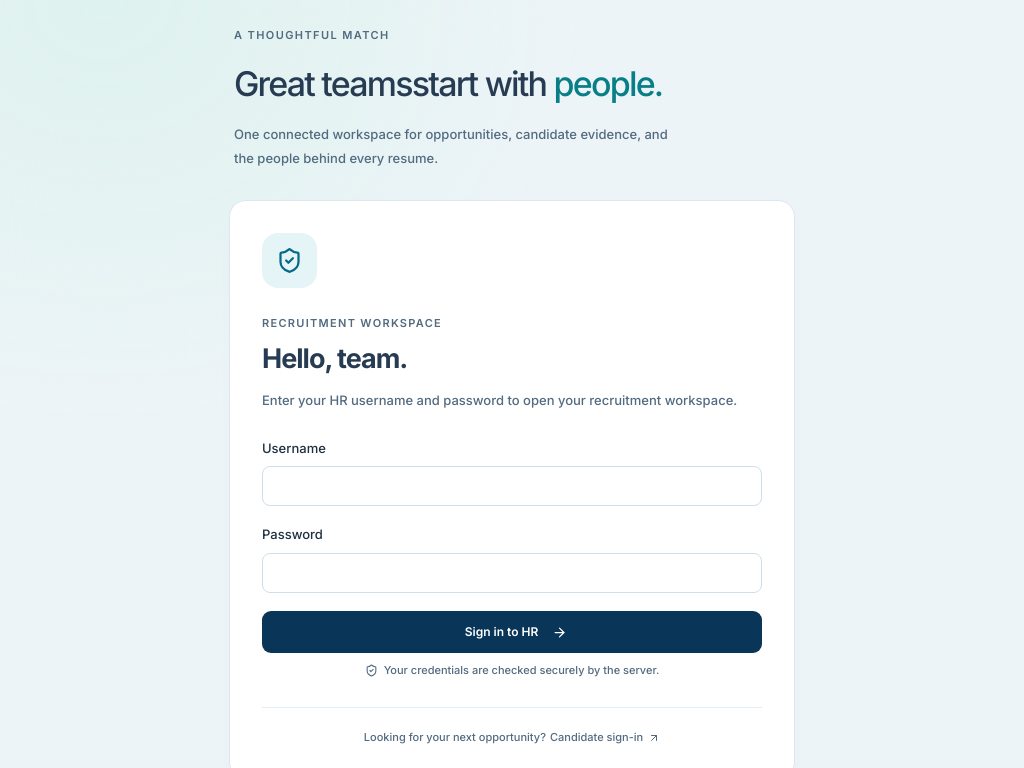
authentication and role boundaries › shows rejected HR credentials without rendering protected data
The image size is (1024, 768).
Type "wrong@staff" into the field labelled "Username". click: (512, 486)
box: [262,466,762,506]
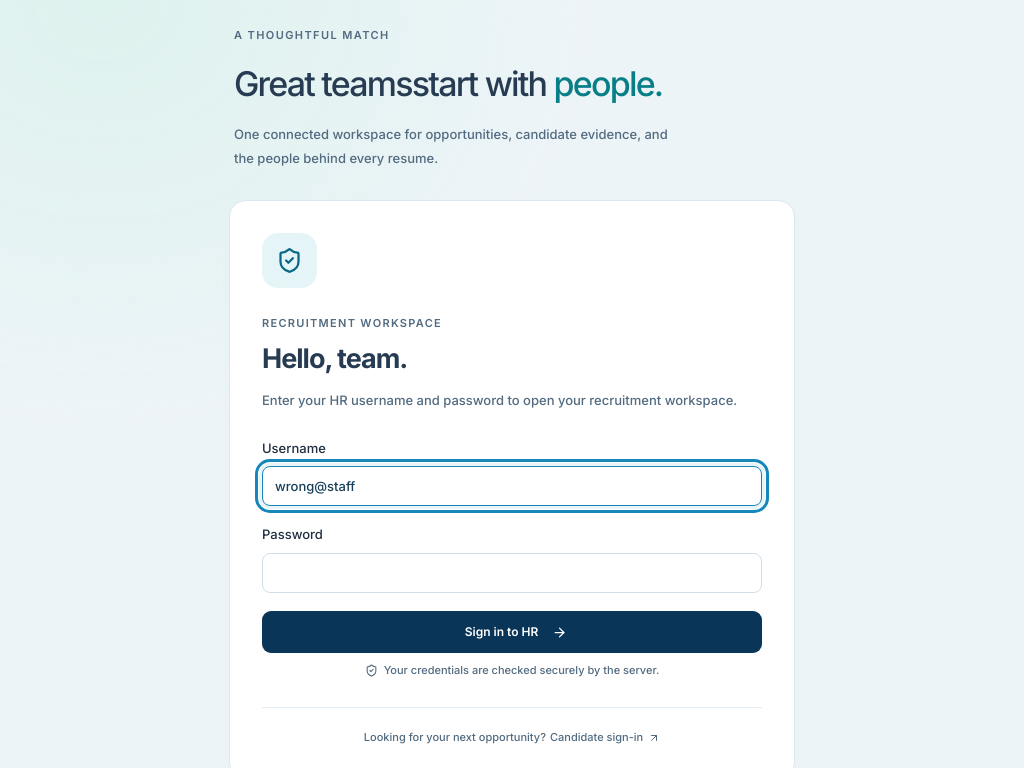
Type "wrong-test-password" into the password field labelled "Password". click: (512, 573)
box: [262,553,762,593]
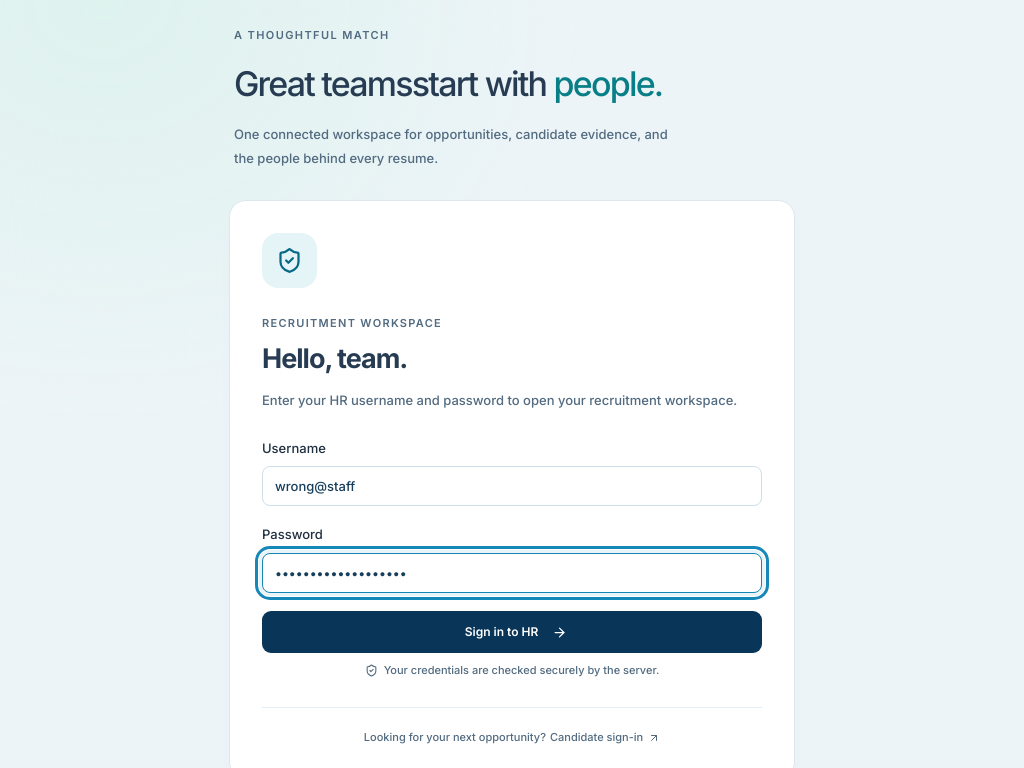
Click the button "Sign in to HR". click: (512, 632)
box: [262,611,762,653]
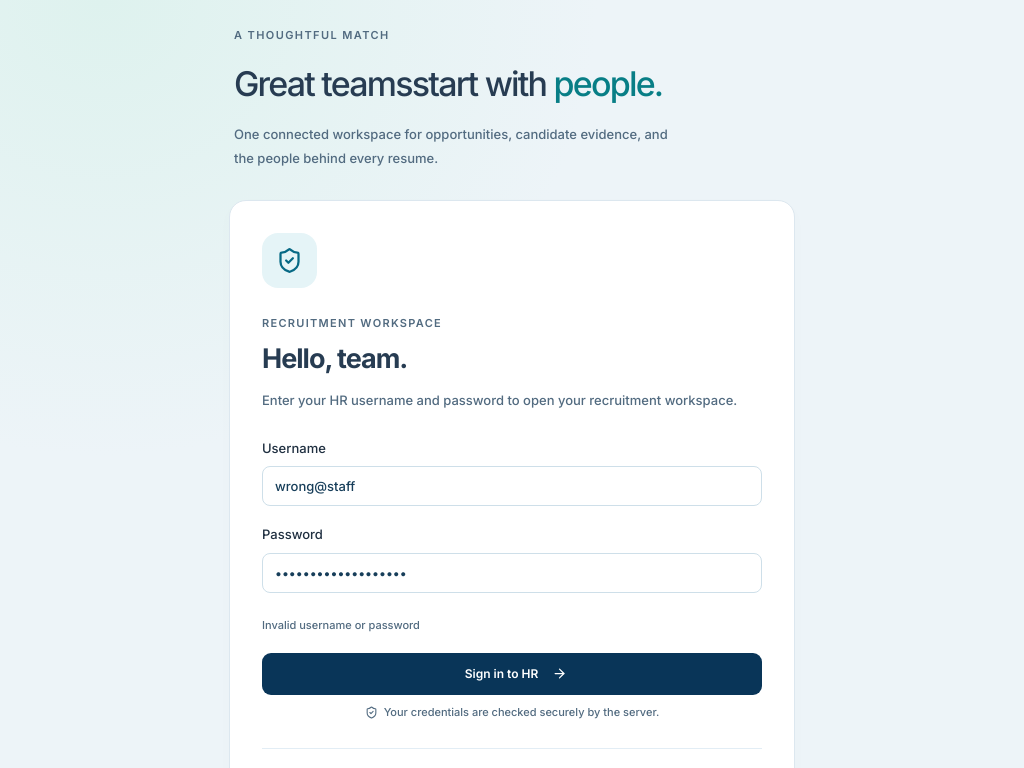
Expected: the button "Sign in to HR" is enabled, [262,653,762,695]
Expected: the message reads "Invalid username or password", [262,618,420,632]
